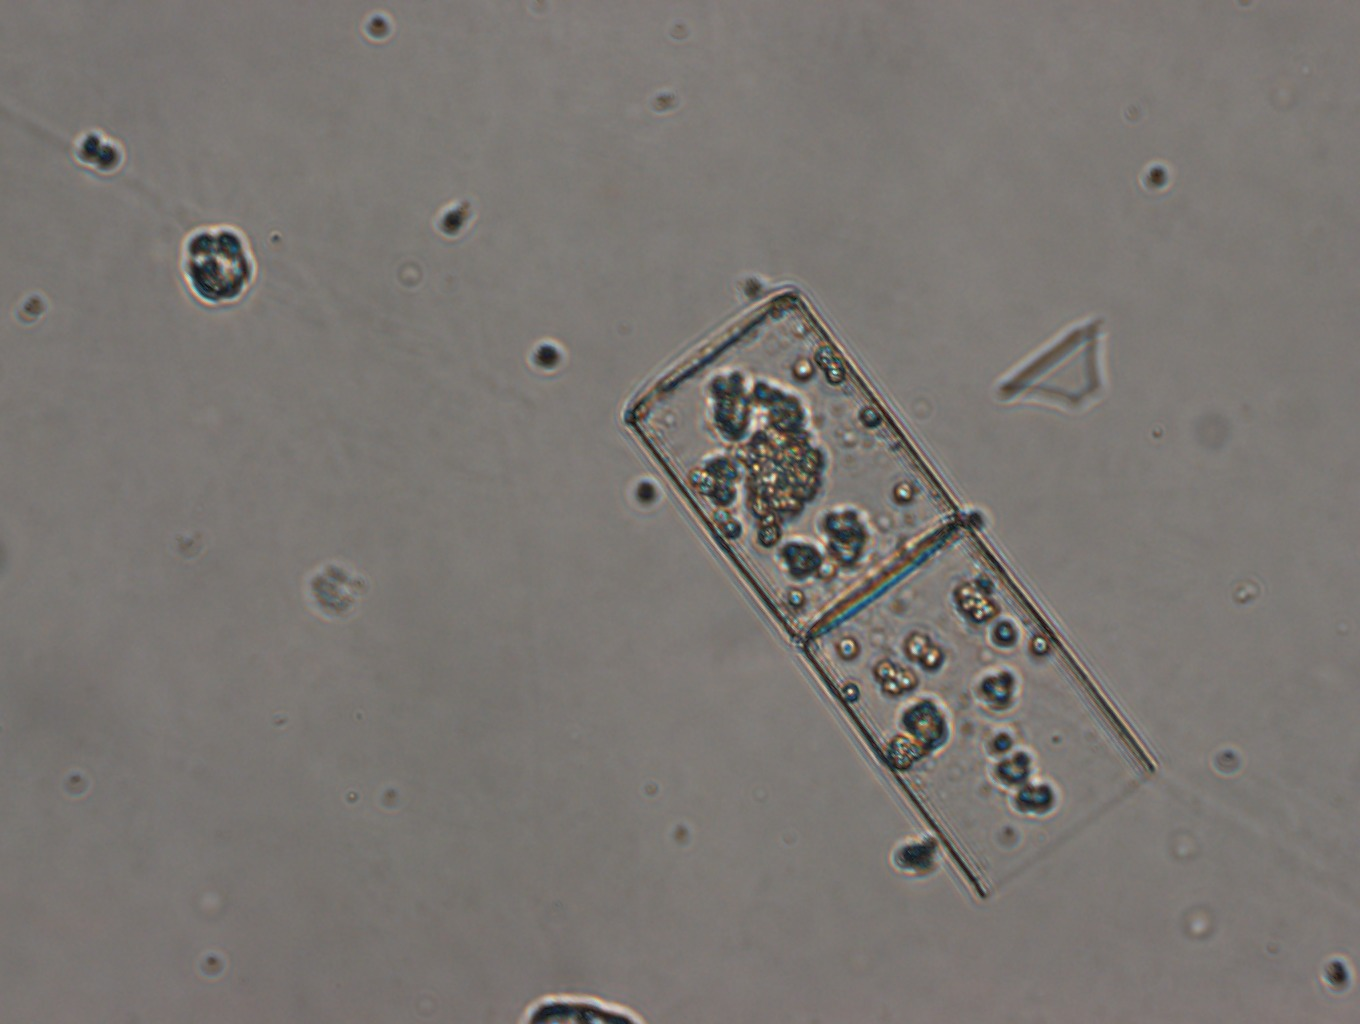guinardia flaccida: (618, 282, 1159, 900)
